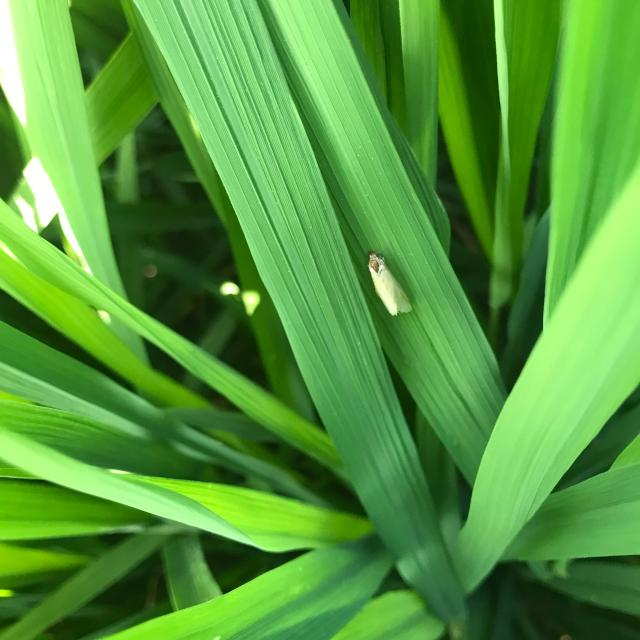rice leaf roller -penggulung daun padi-: (3, 1, 637, 636)
wereng pada daun padi: (364, 249, 414, 318)
